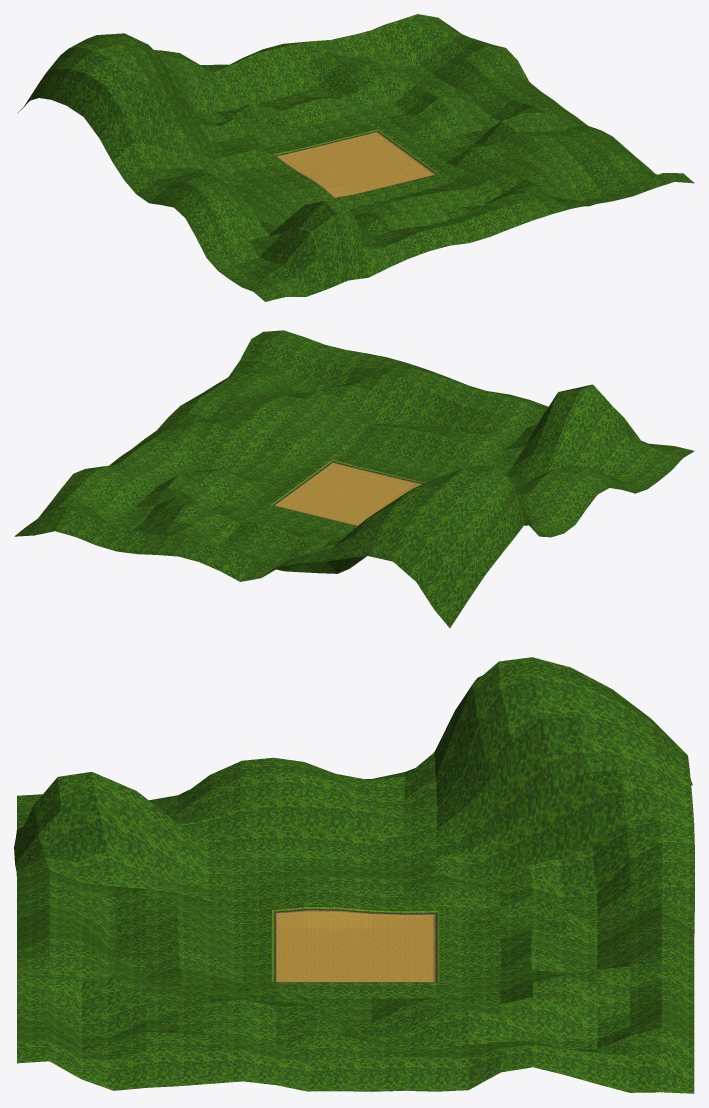
File: jungle.glb
3 views of the same model, one above another, from view 1: azimuth 30°, elevation 25°; view 2: azimuth 150°, elevation 25°; view 3: azimuth 270°, elevation 25° (orthographic). The views are drawn at different scales.
Parts seen in each view (by area): view 1: Level; view 2: Level; view 3: Level.
Part boxes in pixels (x1,y1,x2,y2): Level: (17, 14, 694, 301); Level: (14, 330, 694, 627); Level: (14, 657, 694, 1093).
Size of what is drawn, in the model's own units: 122 by 30.7 by 117.
Materials: 3 (3 with a texture image).
